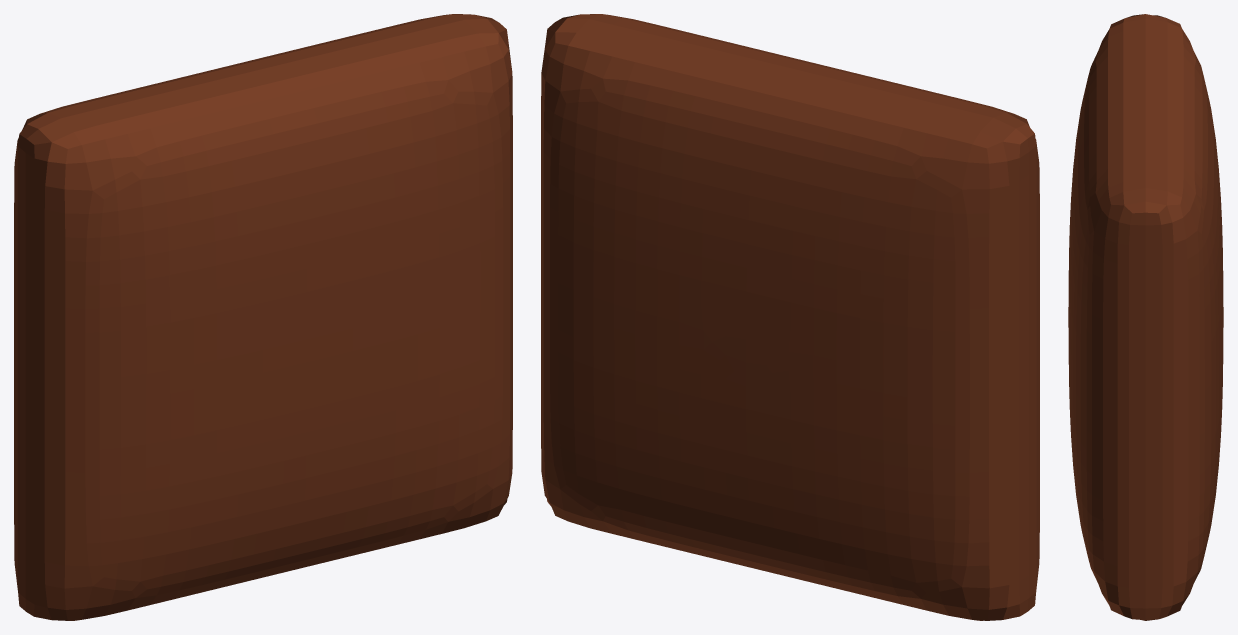
Rendered from FET-CUS-std.glb.
The picture shows the model from 3 angles, left to right: view 1: azimuth 30°, elevation 25°; view 2: azimuth 150°, elevation 25°; view 3: azimuth 270°, elevation 25°; orthographic projection. The views are drawn at different scales.
Visible parts, largest first — view 1: pillow:pbr; view 2: pillow:pbr; view 3: pillow:pbr.
Boxes of the visible parts, x1,y1,x2,y2 form: pillow:pbr: (14, 14, 512, 620); pillow:pbr: (541, 14, 1039, 620); pillow:pbr: (1068, 14, 1223, 620).
Bounding box in the file's own units: 0.4423 × 0.4423 × 0.1453.
